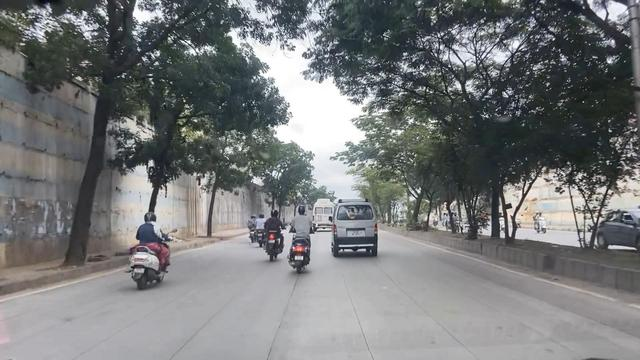LMV: (132, 213, 178, 291), (328, 196, 383, 255), (289, 203, 314, 275), (258, 202, 284, 257)
